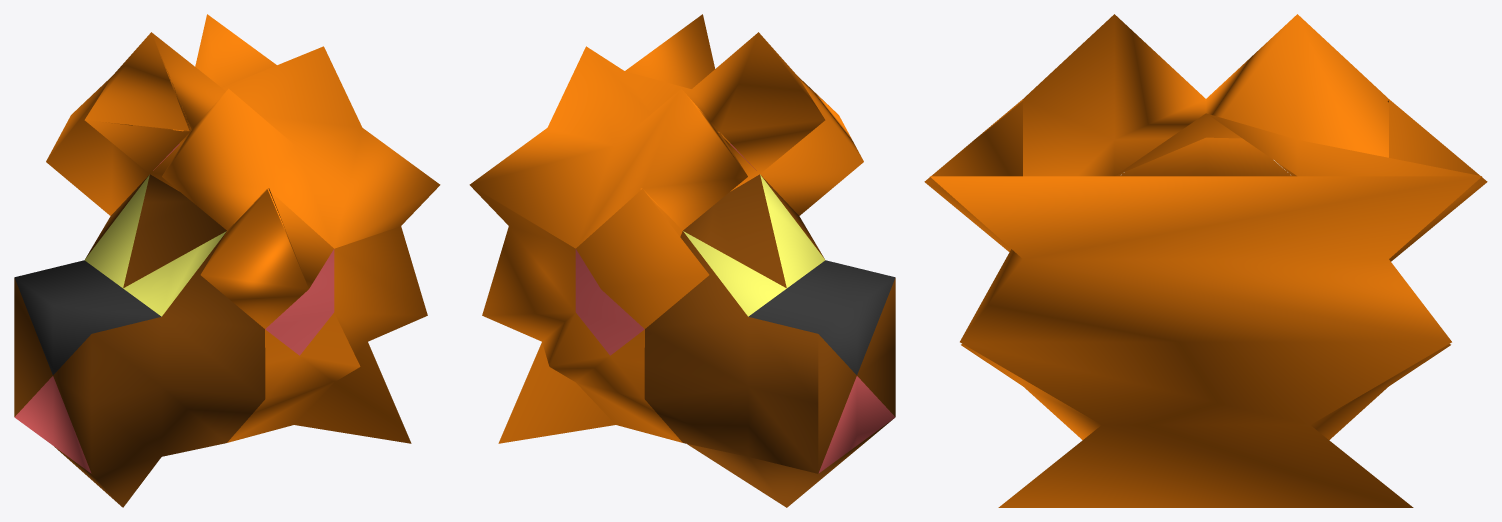
Rendered from blockLion2.fbx.
3 renders of one model, left to right at view 1: azimuth 30°, elevation 25°; view 2: azimuth 150°, elevation 25°; view 3: azimuth 270°, elevation 25°, orthographic. The views are drawn at different scales.
Visible parts, largest first — view 1: Cube; view 2: Cube; view 3: Cube.
Part boxes in pixels (<box>): Cube: <box>14,14,440,507</box>; Cube: <box>469,14,895,507</box>; Cube: <box>924,14,1487,507</box>.
Bounding box in the file's own units: 1.01 × 1.54 × 1.54.
